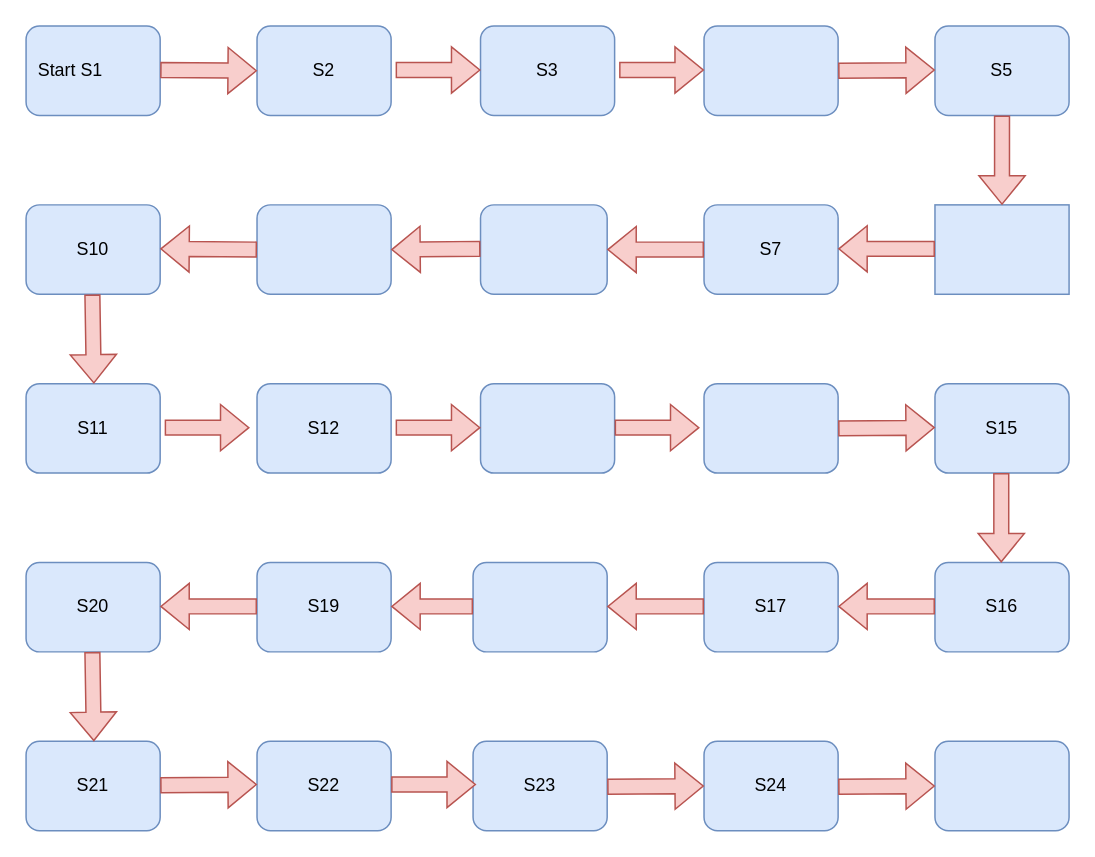
Image size: 1095x857. Some labels were removed from this diagram. Each missing label, with the centre of its shape:
"S13" belongs at [547,427].
"S14" belongs at [770,427].
"S18" belongs at [539,606].
"S25 Finish" belongs at [1001,785].
"S4" belongs at [770,70].
"S6" belongs at [1001,248].
"S8" belongs at [543,248].
"S9" belongs at [323,248].
